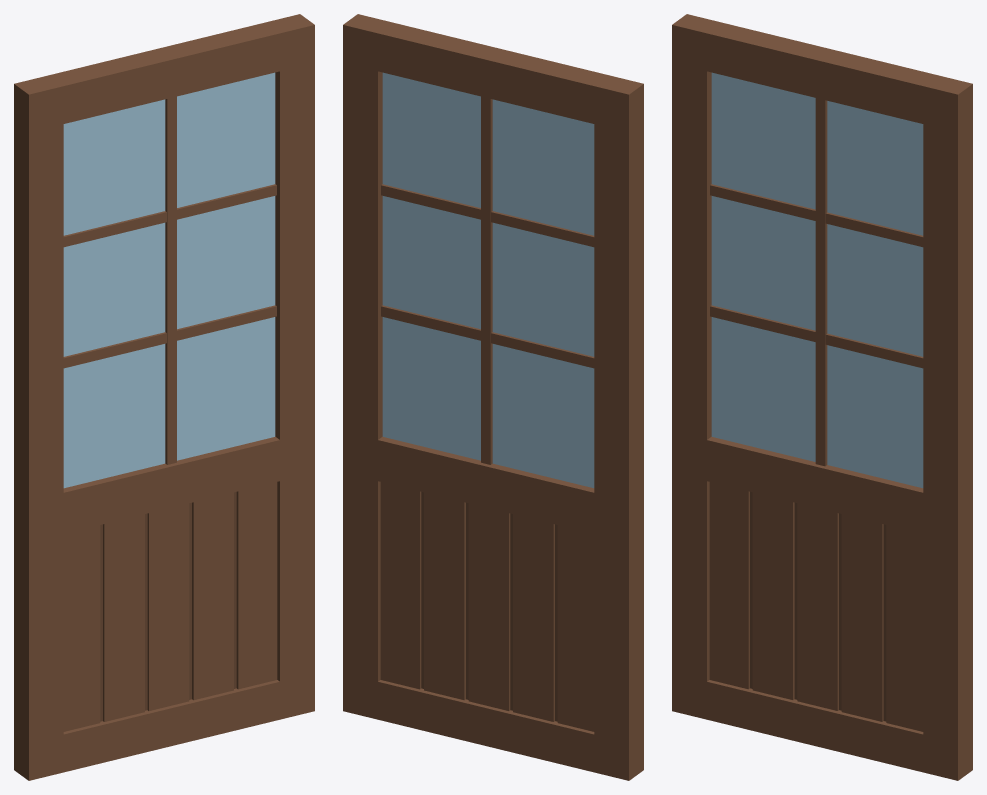
File: Door6_C5.fbx
The picture shows the model from 3 angles, left to right: view 1: azimuth 30°, elevation 25°; view 2: azimuth 150°, elevation 25°; view 3: azimuth 330°, elevation 25°; orthographic projection.
Parts seen in each view (by area): view 1: Door6_C5; view 2: Door6_C5; view 3: Door6_C5.
Part boxes in pixels (<box>): Door6_C5: <box>14,14,314,780</box>; Door6_C5: <box>343,14,643,780</box>; Door6_C5: <box>672,14,972,780</box>.
Size of the model in its own units: 0.89 by 2.04 by 0.08.
